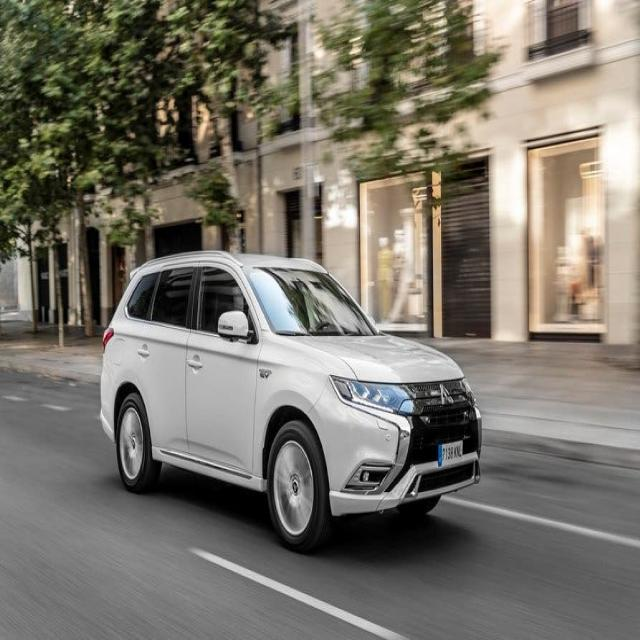light_vehicle: (98, 250, 483, 552)
